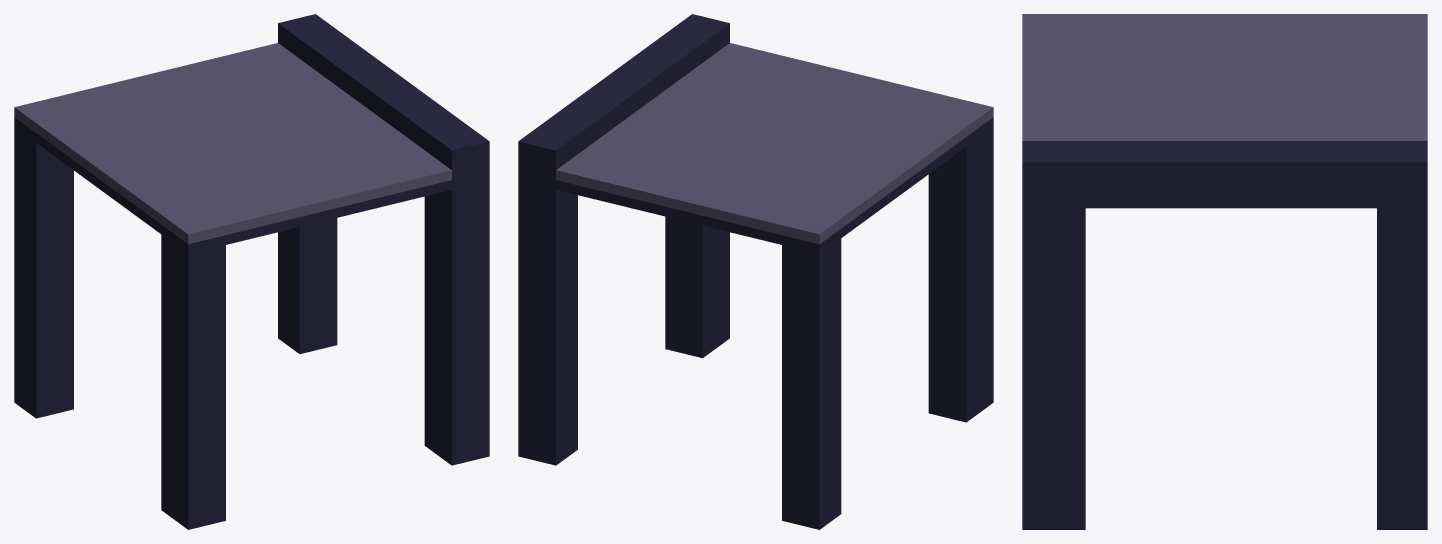
File: TapisIntersection.obj
3 views of the same model, side by side, from view 1: azimuth 30°, elevation 25°; view 2: azimuth 150°, elevation 25°; view 3: azimuth 270°, elevation 25° (orthographic). The views are drawn at different scales.
Size of the model in its own units: 3.2 by 3.2 by 3.2.
1 material, 1 textured.
